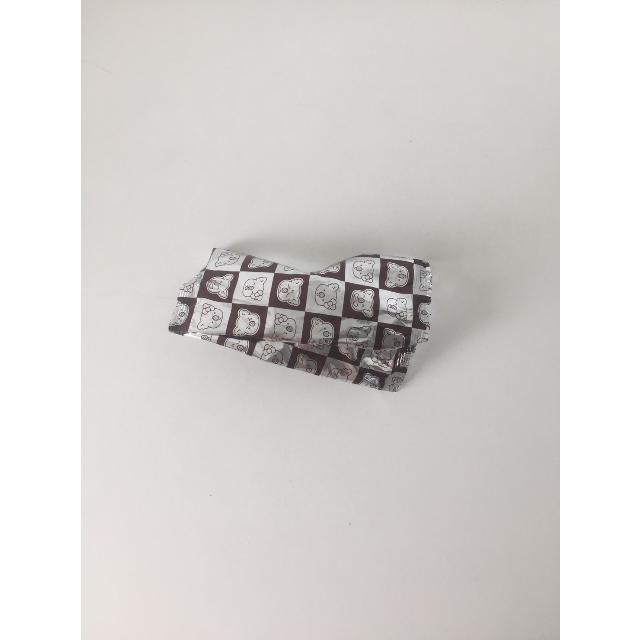Paquete de plastico: (175, 237, 438, 380)
